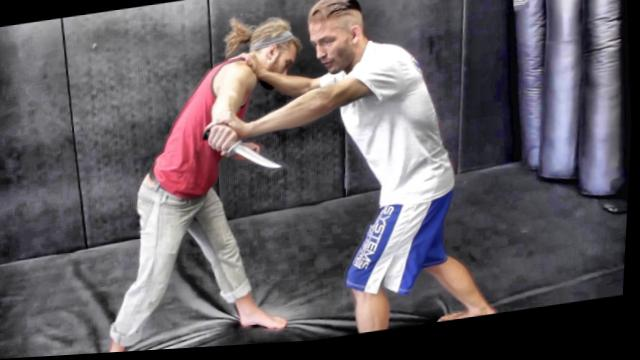knife: (194, 114, 292, 189)
